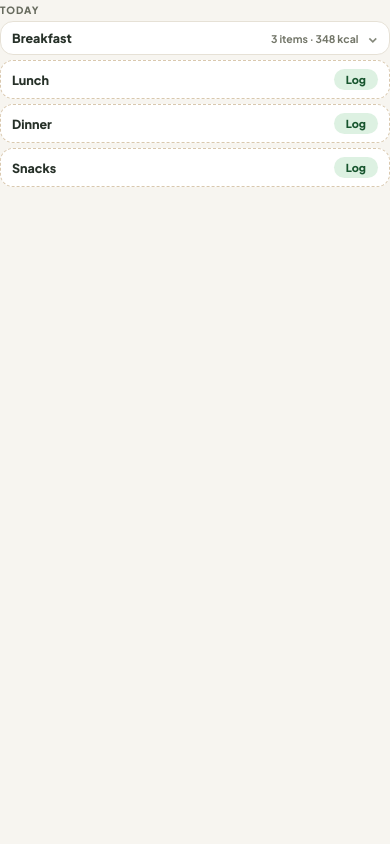
Test: FoodDiary parts rendering › adapts a legacy recipe_id log to one bracket row, reader-side only
Click the button with aria-label "Breakfast —" at (42, 38), box [12,30,378,46]
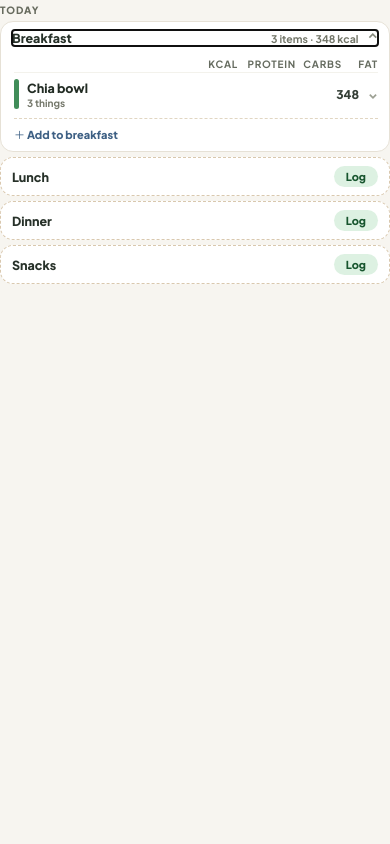
Now the text "3 things" is shown, box [27,96,65,108]
Click the button with aria-label "Chia bowl — 3 things" at (58, 88), box [27,79,378,109]
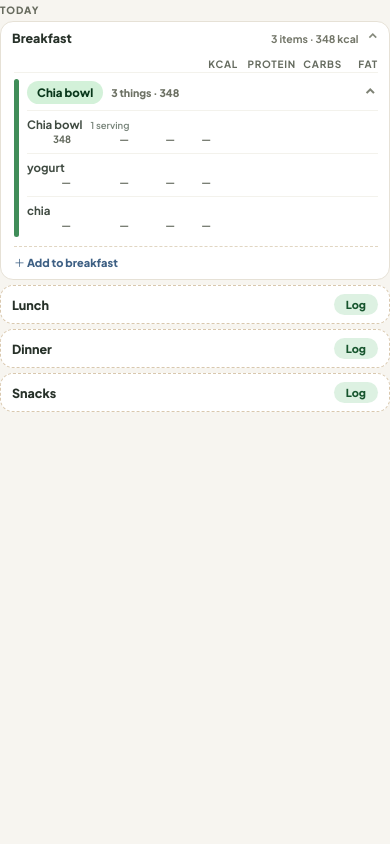
Note: The flat rows come back with their original indexes — corrections still land.
Click the button with aria-label "Chia bowl — open to see" at (202, 130), box [27,110,378,151]
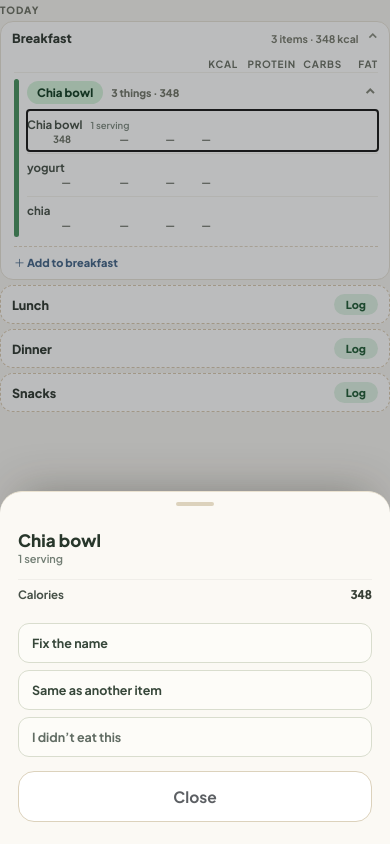
Now the dialog "Chia bowl" is shown, box [0,491,389,843]
